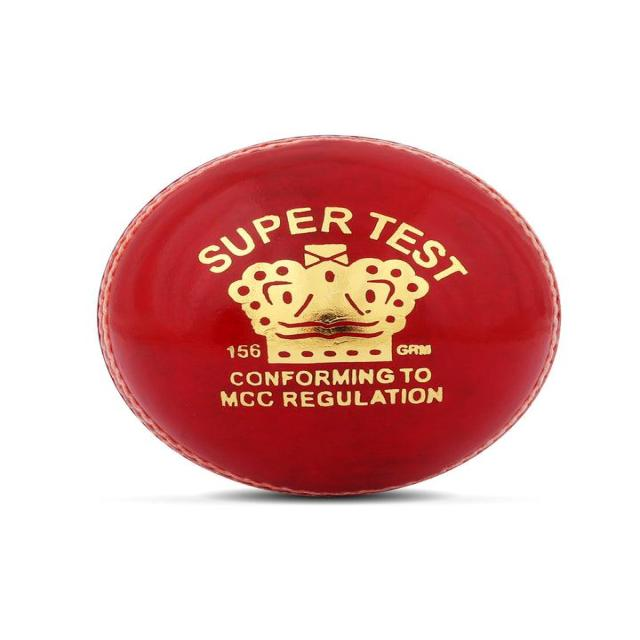ball: (100, 135, 562, 506)
